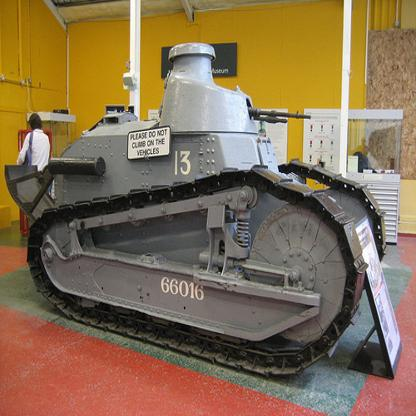Tank: (21, 40, 416, 409)
